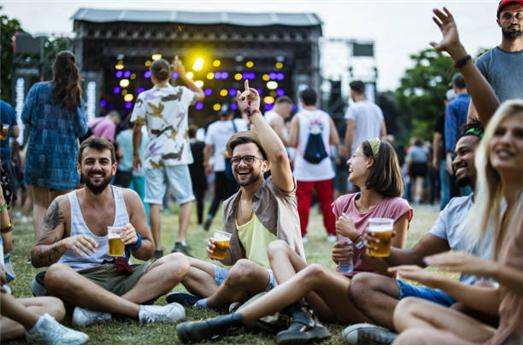alcohol: (365, 218, 393, 257), (207, 231, 233, 261), (108, 225, 127, 257)
